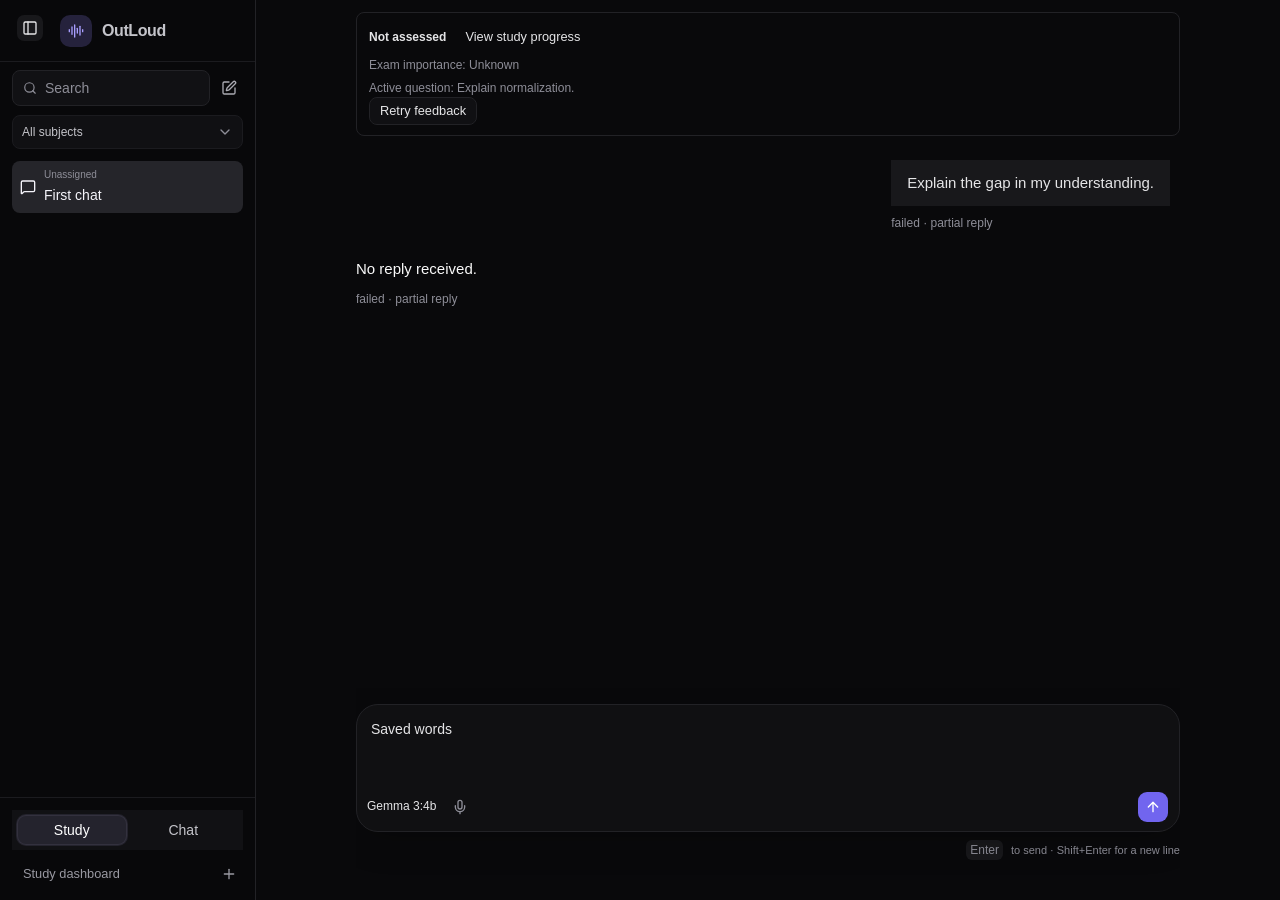
Scenario: retries failed study feedback with its saved explain action and preserves the reviewed draft
Click the button "Retry feedback" at (423, 111), box [369, 97, 477, 125]
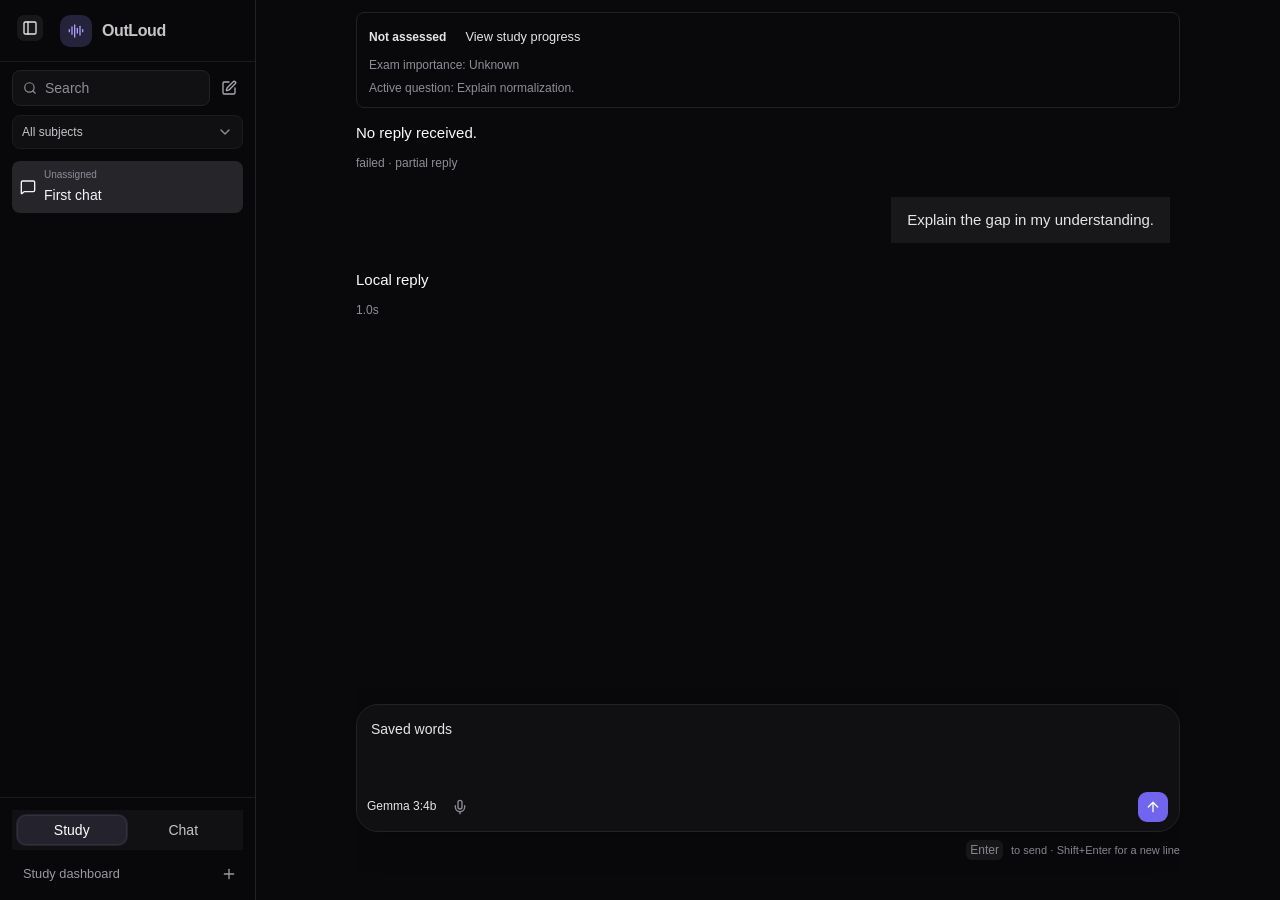
Expected: the text box named "Your text" holds "Saved words", [357, 705, 1179, 785]
Expected: the text "Local reply" is shown, [356, 271, 428, 288]
